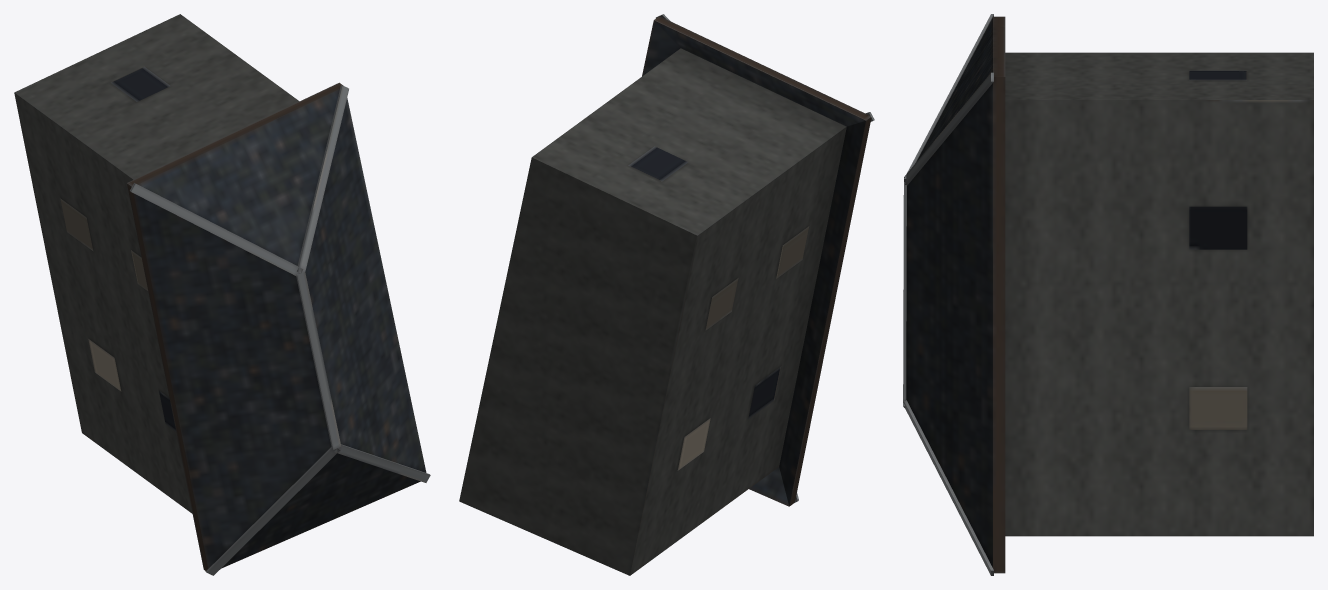
Rendered from house_b0409.obj.
The picture shows the model from 3 angles, left to right: view 1: azimuth 30°, elevation 25°; view 2: azimuth 150°, elevation 25°; view 3: azimuth 270°, elevation 25°; orthographic projection. The views are drawn at different scales.
Parts seen in each view (by area): view 1: house_b0409; view 2: house_b0409; view 3: house_b0409.
Part boxes in pixels (x1,y1,x2,y2): house_b0409: [14, 14, 430, 575]; house_b0409: [459, 14, 874, 575]; house_b0409: [903, 14, 1313, 575].
Bounding box in the file's own units: 7.34 × 10.74 × 7.95.
Materials: 1 (1 with a texture image).
